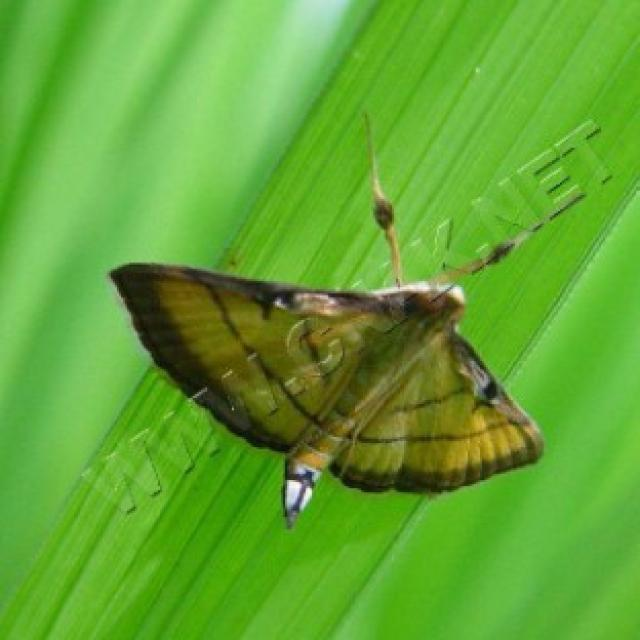rice leaf roller: (109, 141, 576, 525)
